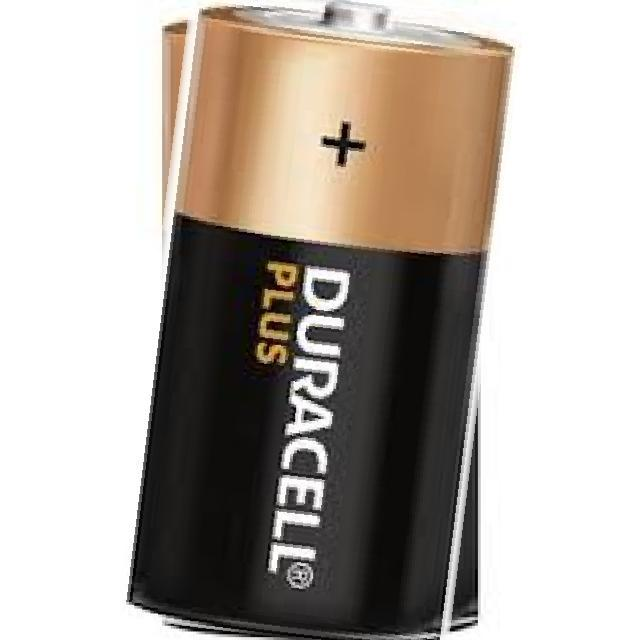Battery: (114, 8, 522, 640)
